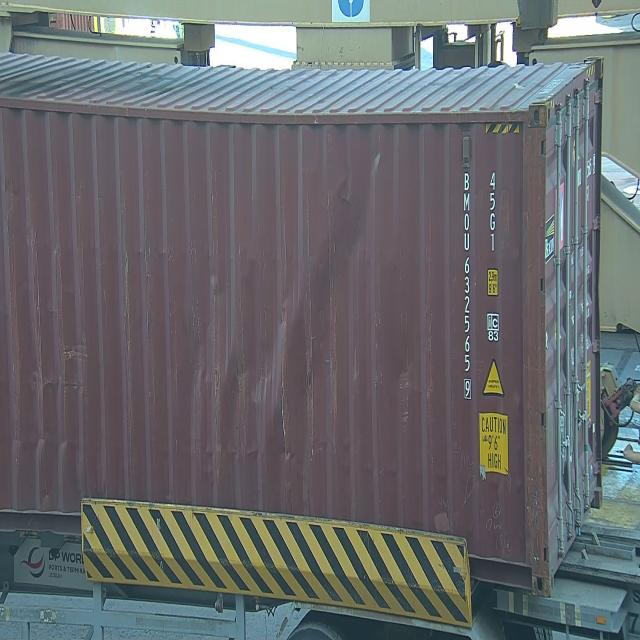dent: (252, 149, 372, 412)
